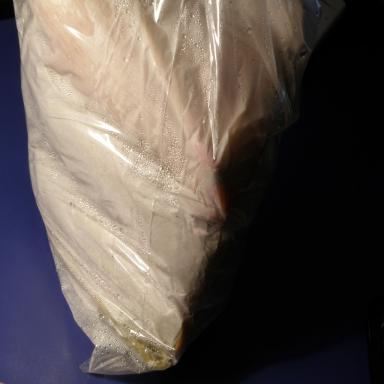plasticbag: (9, 0, 348, 375)
